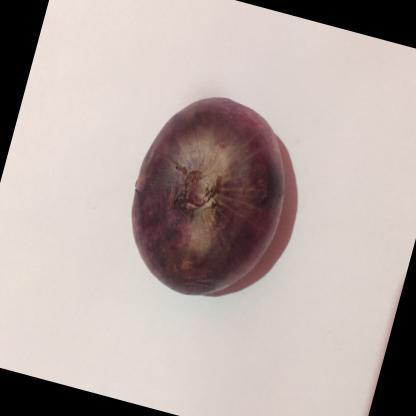onion: (87, 38, 352, 354)
